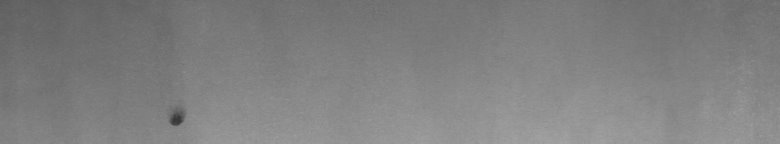fi: (164, 104, 188, 136)
